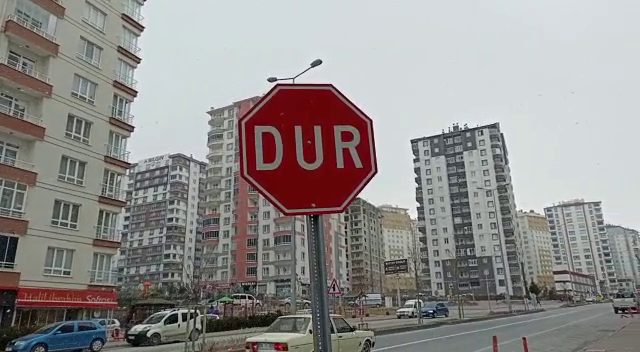stop: (232, 79, 383, 221)
